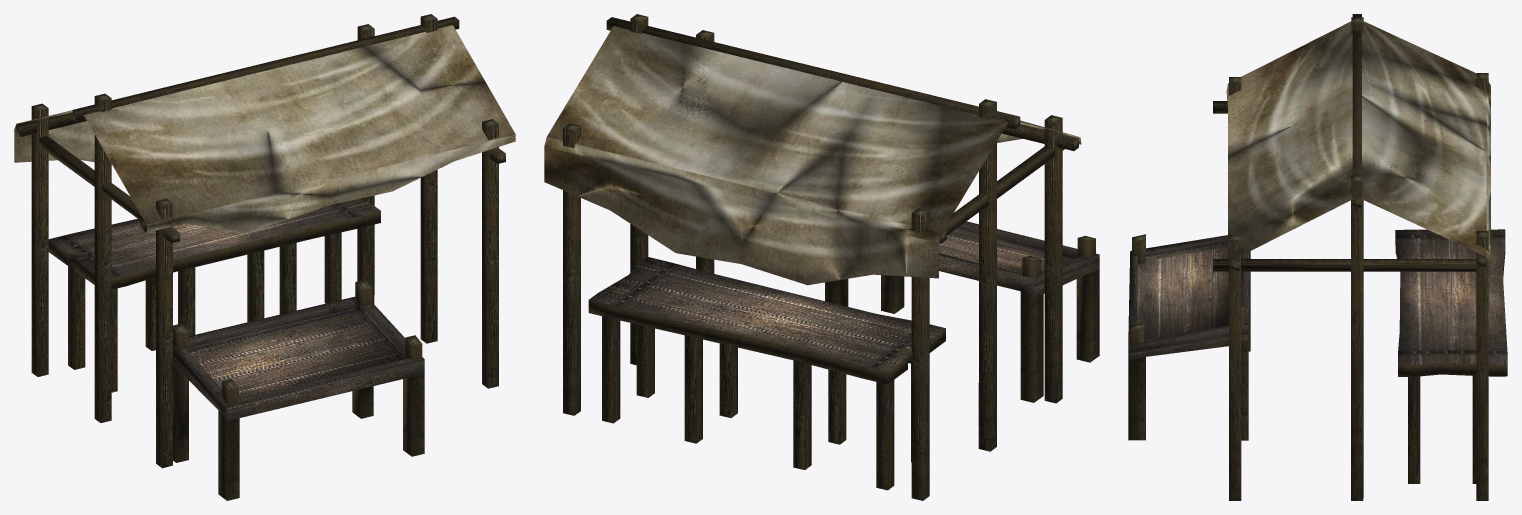
Rendered from GS_MARKET_CLEAR_03.glb.
3 views of the same model, side by side, from view 1: azimuth 30°, elevation 25°; view 2: azimuth 150°, elevation 25°; view 3: azimuth 270°, elevation 25° (orthographic). The views are drawn at different scales.
Parts seen in each view (by area): view 1: Mesh; view 2: Mesh; view 3: Mesh.
Boxes of the visible parts, x1=… form: Mesh: x1=14, y1=14, x2=515, y2=500; Mesh: x1=544, y1=14, x2=1099, y2=500; Mesh: x1=1128, y1=14, x2=1507, y2=500.
Size of the model in its own units: 4.76 by 3.84 by 4.12.
Materials: 4 (4 with a texture image).
